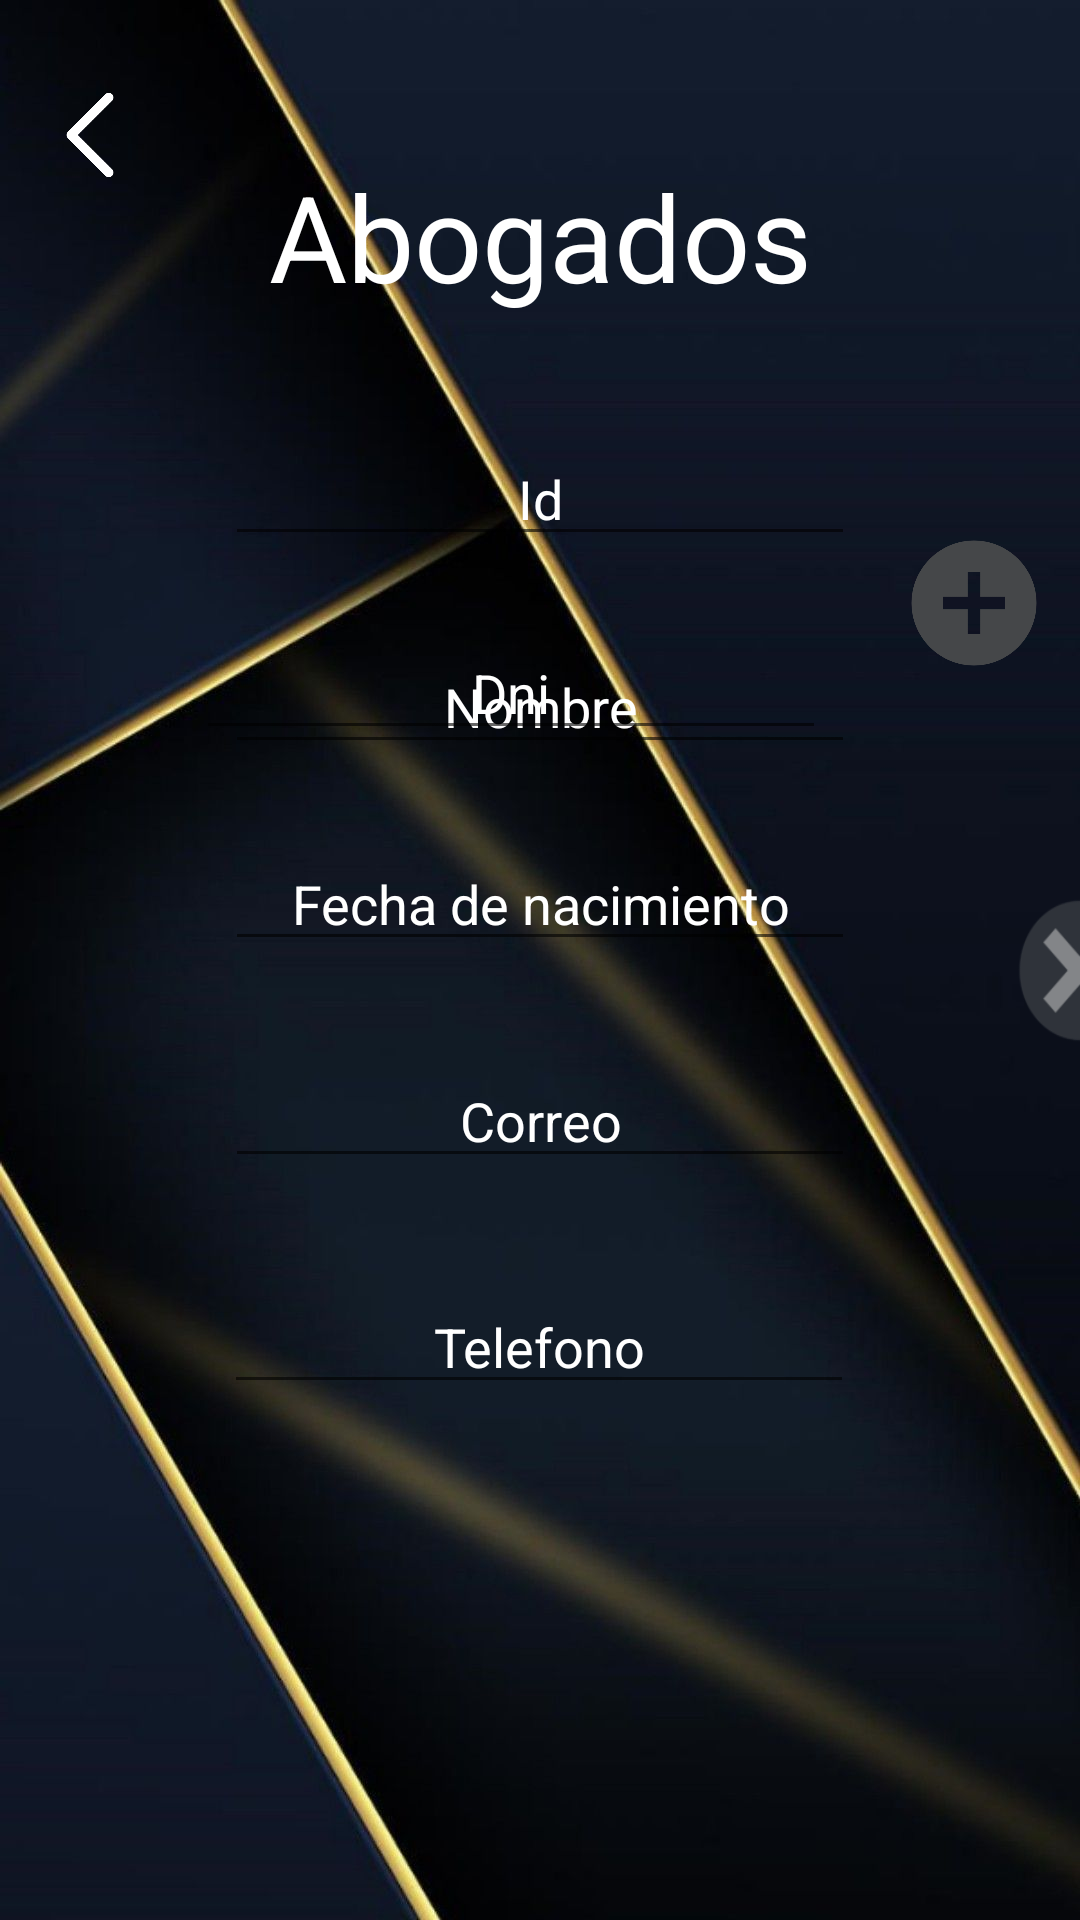

Where icons sit on this 1080 × 1920 app screen, as (x1, y1, x2, y2):
agregar: (911, 541, 1037, 665)
